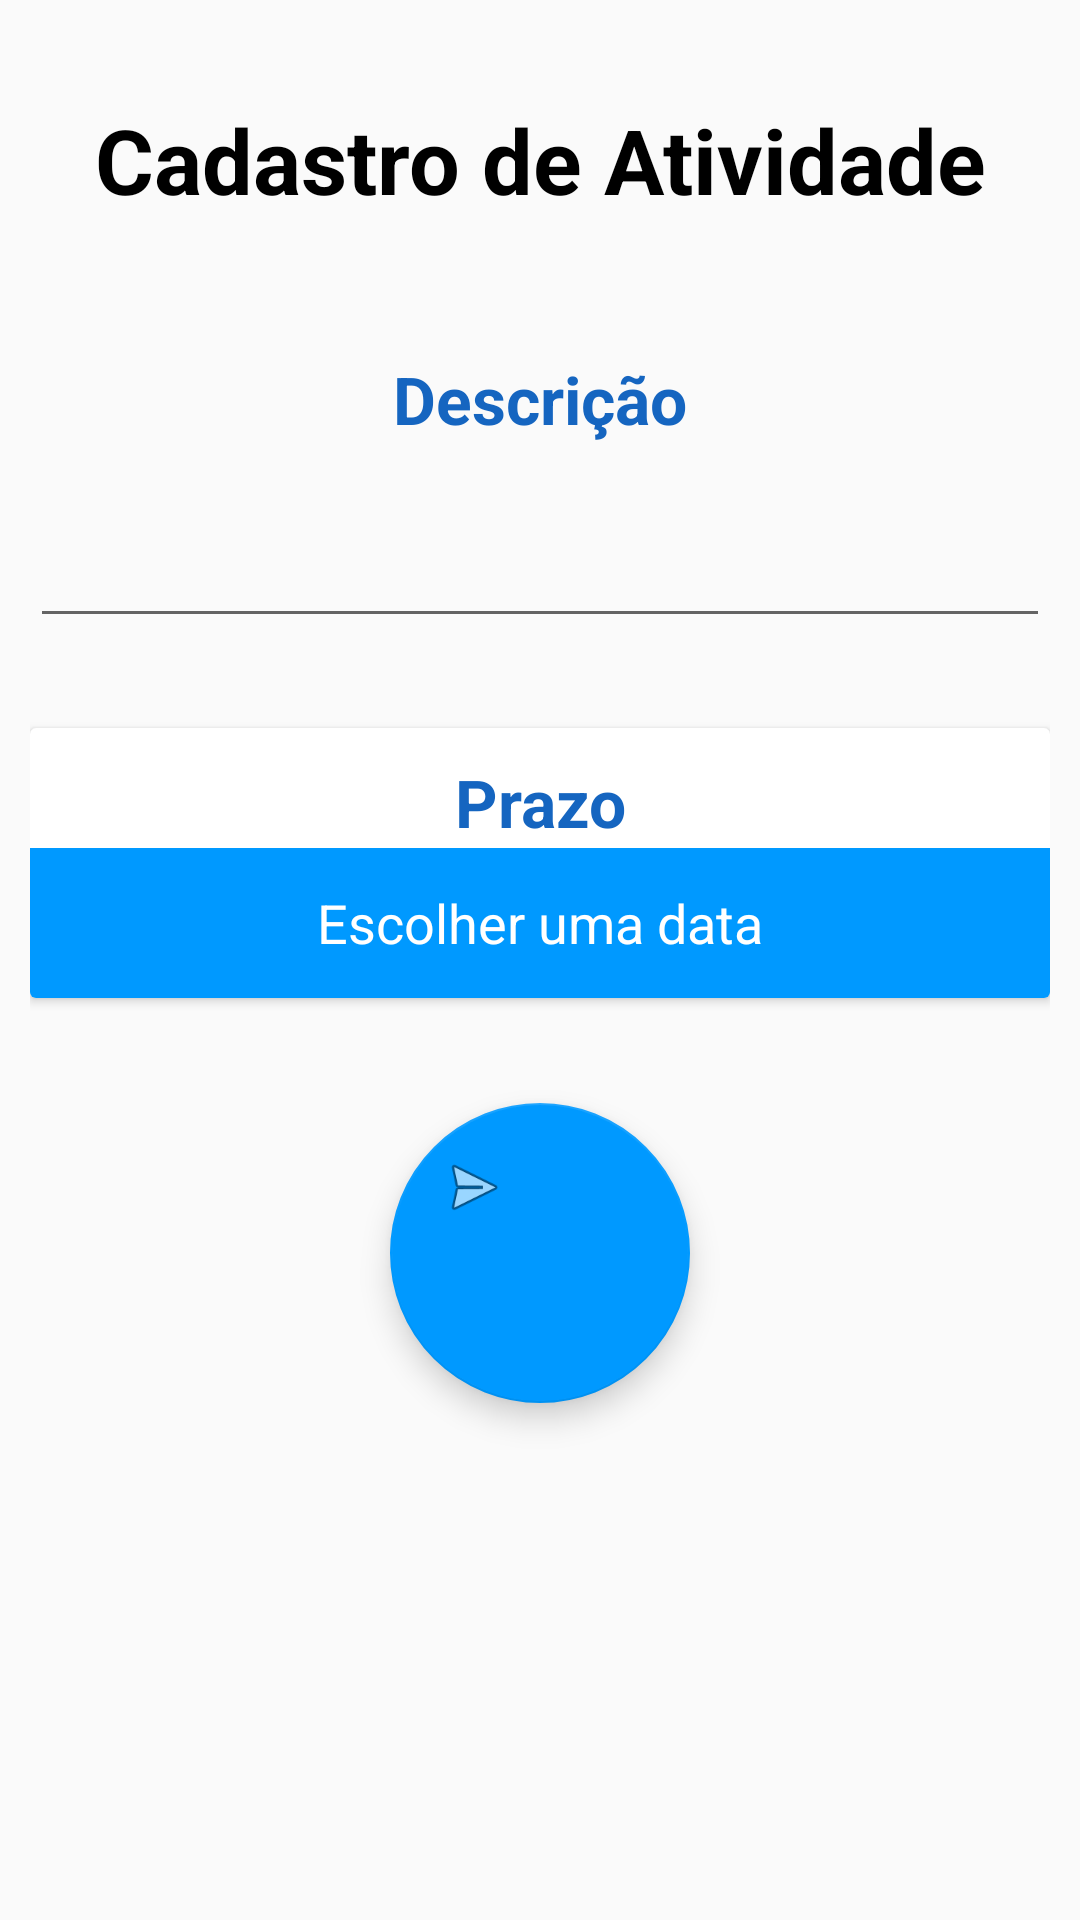

Locate icon controls on the screen. Image size 1080x1920, boxes as (x1, y1, x2, y2).
send: (390, 1103, 690, 1403)
